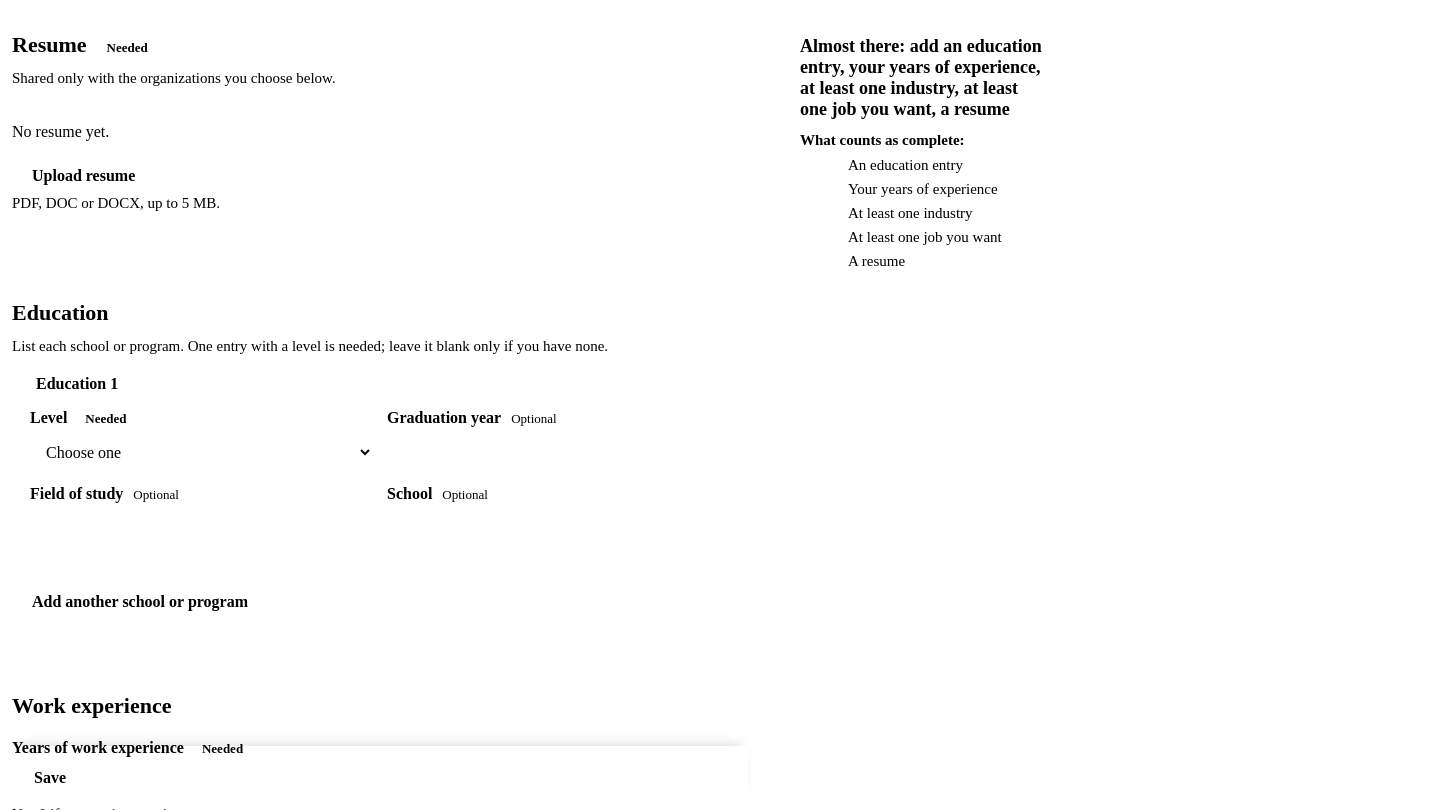
Test: the profile form › shows the server message when the save fails
Click the button "Save" at (50, 778), box 12,758 -> 88,798
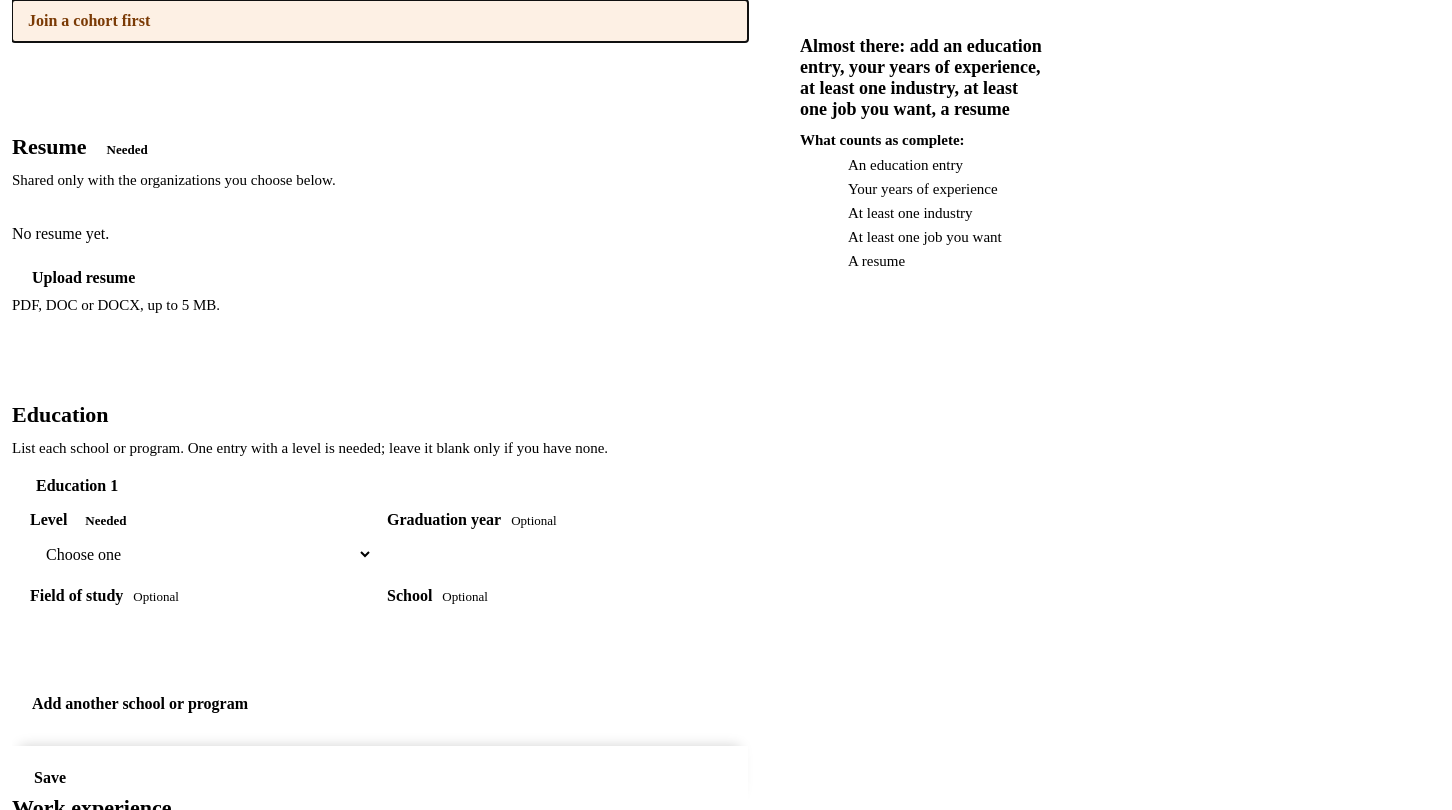
Expected: the message reads "Join a cohort first", 28,12 -> 150,29
